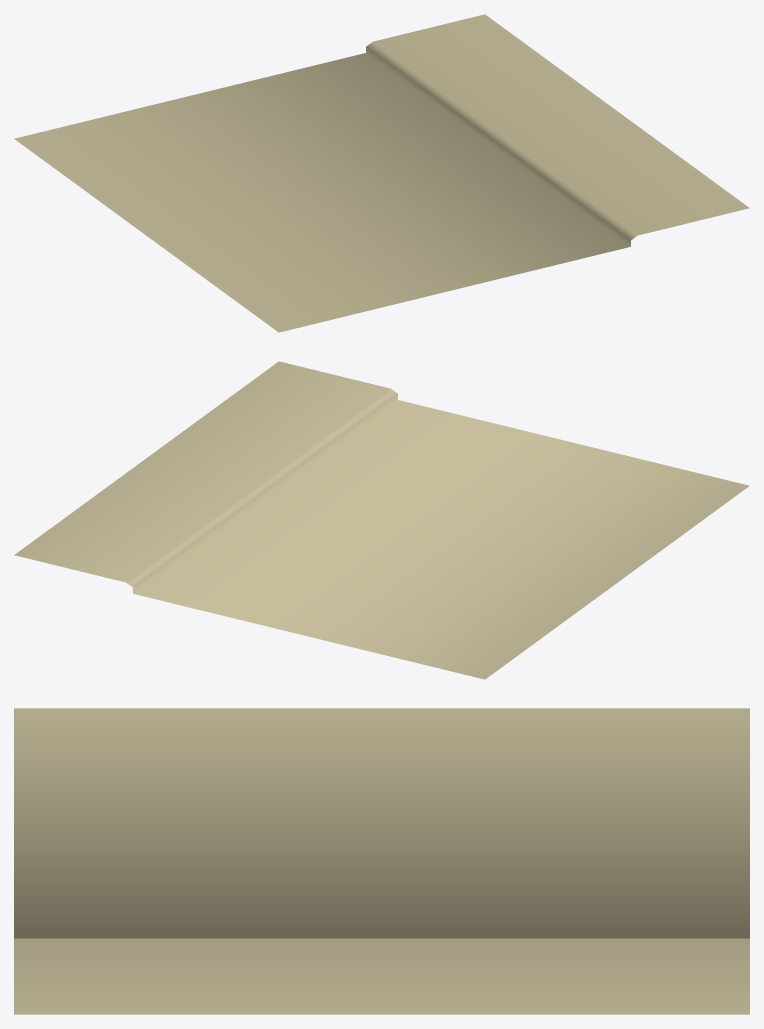
File: LightPool02.glb
3 views of the same model, one above another, from view 1: azimuth 30°, elevation 25°; view 2: azimuth 150°, elevation 25°; view 3: azimuth 270°, elevation 25° (orthographic). The views are drawn at different scales.
Parts seen in each view (by area): view 1: LightPool02; view 2: LightPool02; view 3: LightPool02.
Part boxes in pixels (x1=…): LightPool02: x1=14, y1=14, x2=749, y2=332; LightPool02: x1=14, y1=361, x2=749, y2=679; LightPool02: x1=14, y1=708, x2=749, y2=1014.
Size of the model in its own units: 8.07 by 0.1561 by 7.86.
